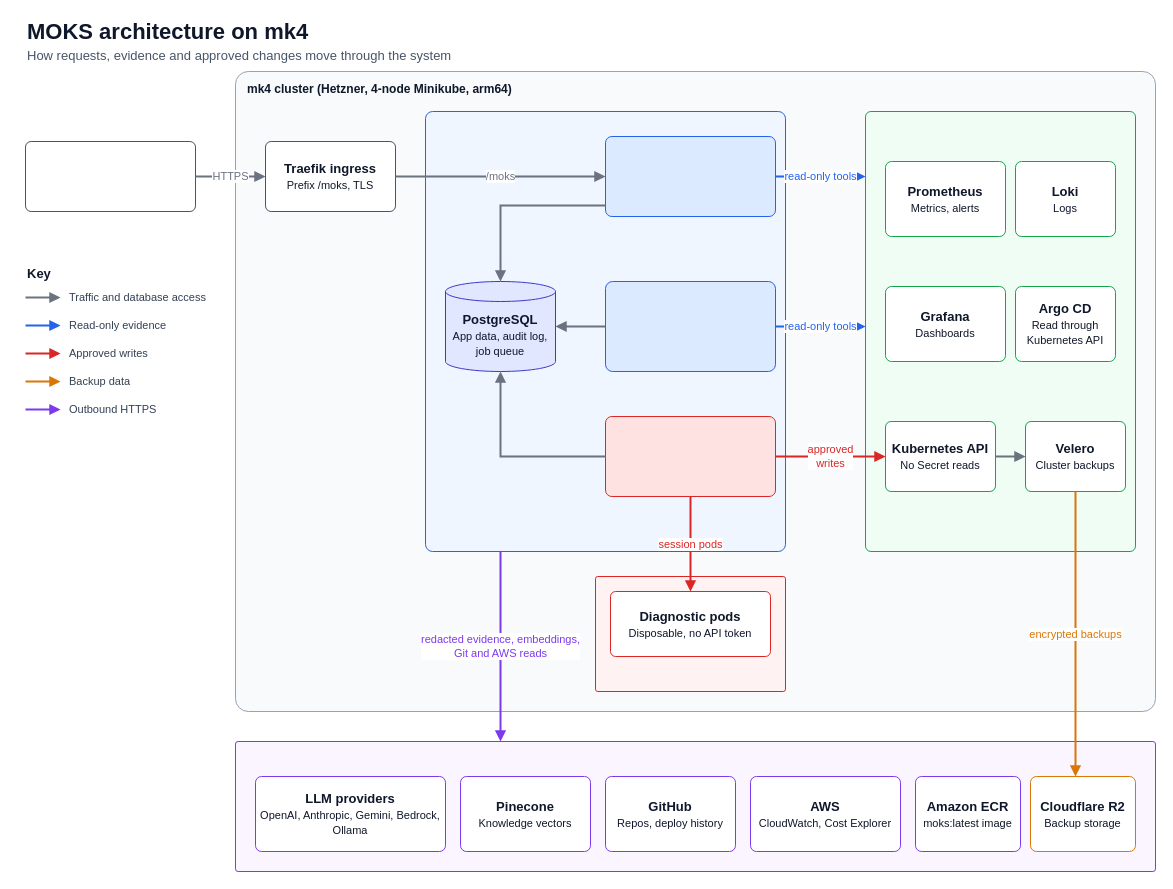
This 1173x889 diagram has some shape labels left out. Here are the shapes that lost their labels. From the top down, the box of each, then its label:
(24, 140, 196, 212): Engineer Browser, React SPA
(604, 136, 776, 216): moks-api ×2 FastAPI: SPA, REST, SSE, auth, approvals
(424, 110, 786, 552): namespace: moks
(604, 280, 776, 372): moks-worker Investigations, detection, alert polling, knowledge sync
(864, 110, 1136, 552): Systems MOKS reads
(604, 416, 776, 496): moks-executor Only writer: runs approved action plans
(594, 576, 786, 692): namespace: moks-diagnostics
(234, 740, 1156, 872): External services (HTTPS)
